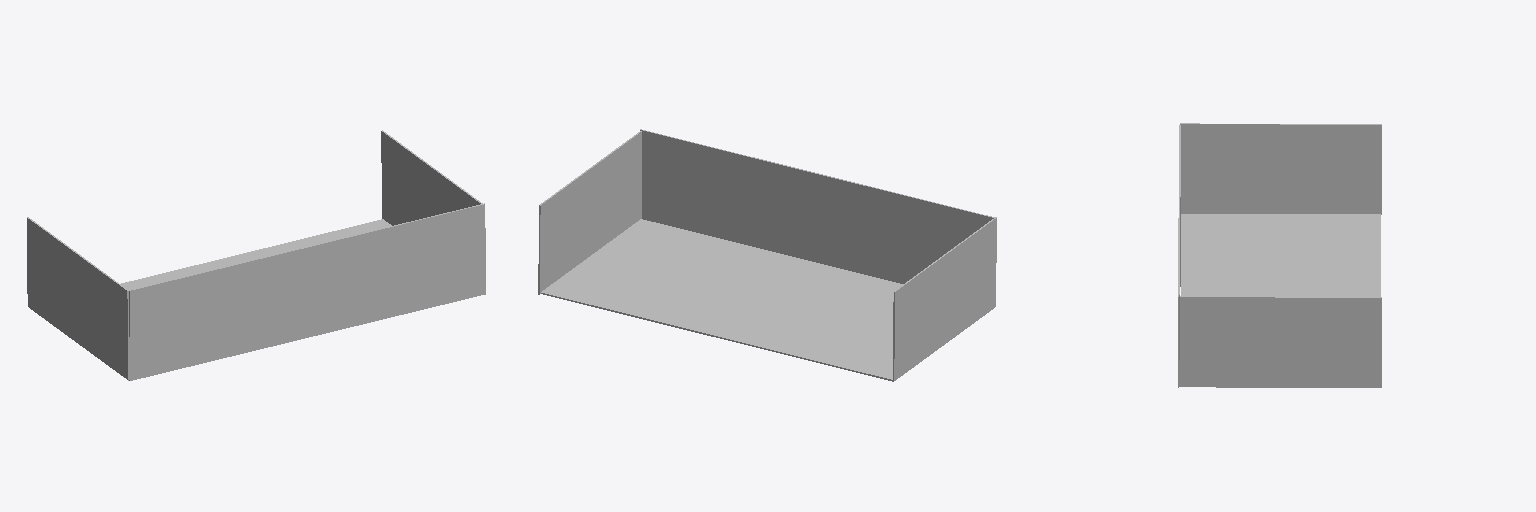
Rendered from aimlab_box.obj.
The picture shows the model from 3 angles: view 1: azimuth 30°, elevation 25°; view 2: azimuth 150°, elevation 25°; view 3: azimuth 270°, elevation 25°; orthographic projection.
Visible parts, largest first — view 1: Cube.001, Cube.003, Cube.002, Cube; view 2: Cube, Cube.001, Cube.003, Cube.002; view 3: Cube.002, Cube.003, Cube, Cube.001.
Boxes of the visible parts, <box> form: Cube.001: <box>129,203,485,380</box>; Cube.003: <box>27,217,129,380</box>; Cube.002: <box>381,130,482,225</box>; Cube: <box>35,219,391,375</box>; Cube: <box>541,219,984,381</box>; Cube.001: <box>640,129,994,283</box>; Cube.003: <box>893,217,996,380</box>; Cube.002: <box>538,131,641,294</box>; Cube.002: <box>1179,296,1381,387</box>; Cube.003: <box>1180,123,1381,214</box>; Cube: <box>1181,214,1380,296</box>; Cube.001: <box>1178,125,1180,387</box>.
Bounding box in the file's own units: 11.29 × 2.77 × 5.59.